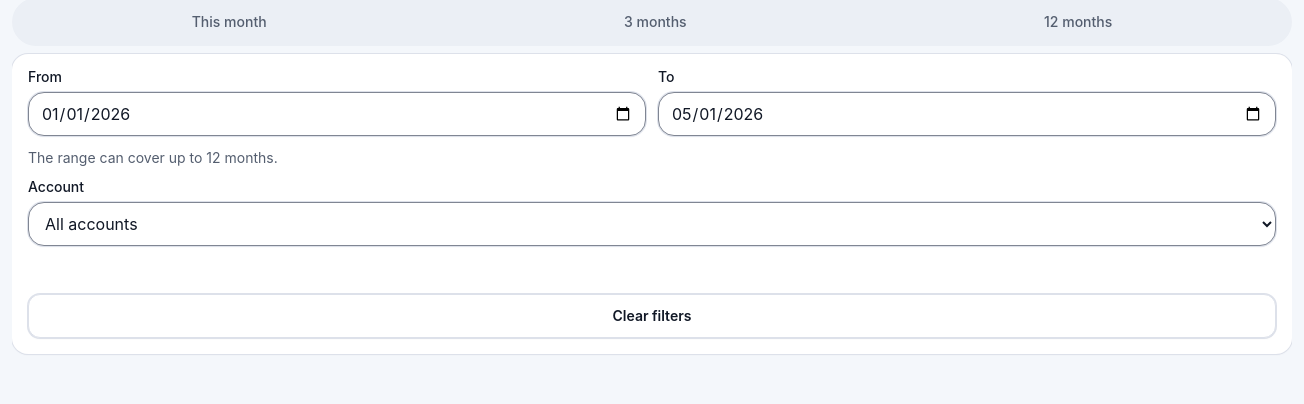
Test: ReportFilters › 13 months on income against expenses states the limit of 12 and sends nothing (AC-33)
Type "2025-03-01" into the date field labelled "From". click: (337, 114)
box: [28, 92, 646, 136]
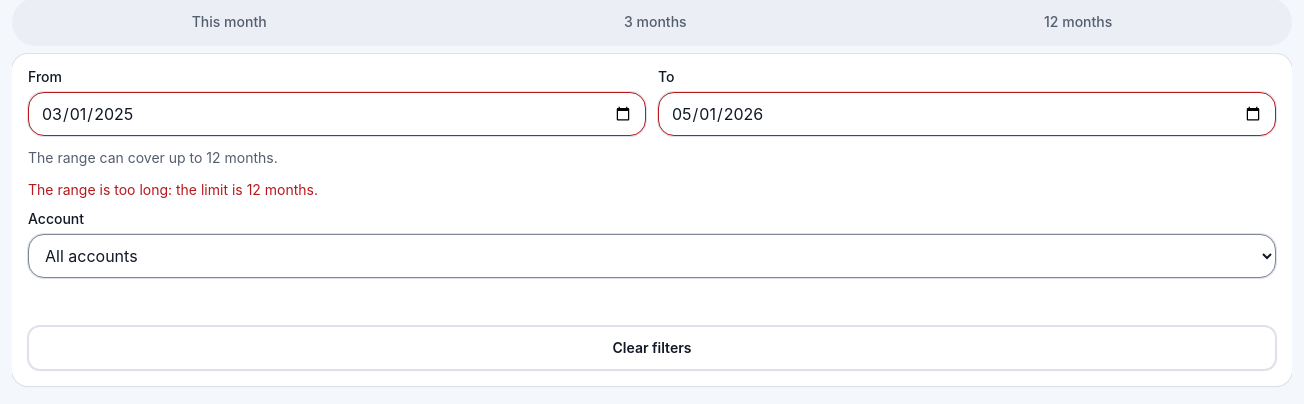
Check: the text "The range is too long: the limit is 12 months." is shown, box [28, 181, 318, 198]
